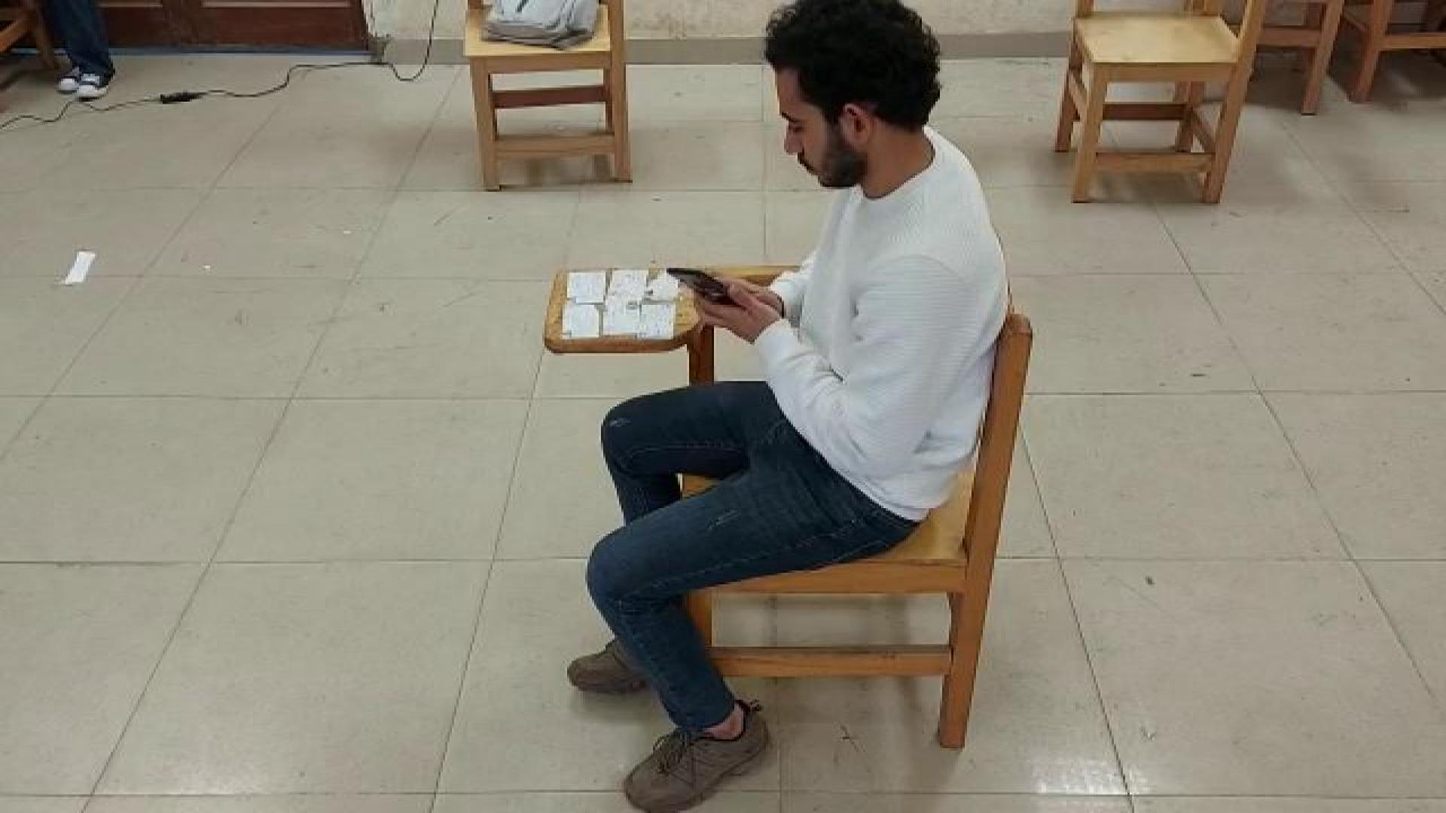phone: (667, 263, 741, 302)
